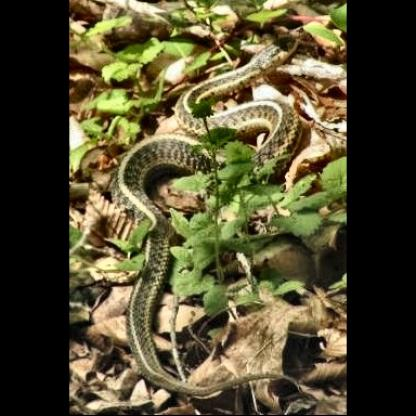Snake: (113, 29, 298, 393)
